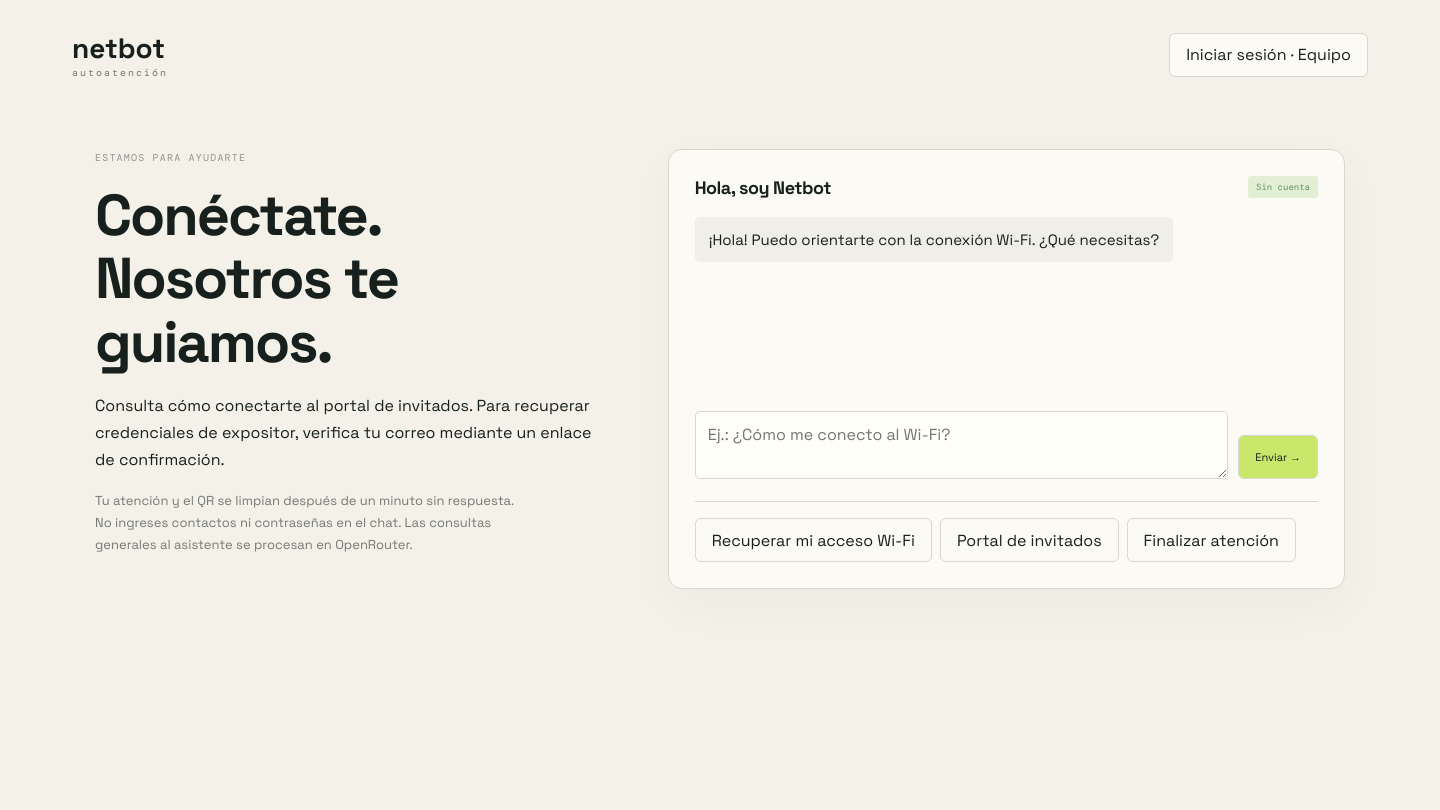
Test case: rejects duplicate SDK callbacks and keeps local password login available after failure
Click the button "Iniciar sesión · Equipo". click: (1269, 54)
box: [1169, 32, 1368, 76]
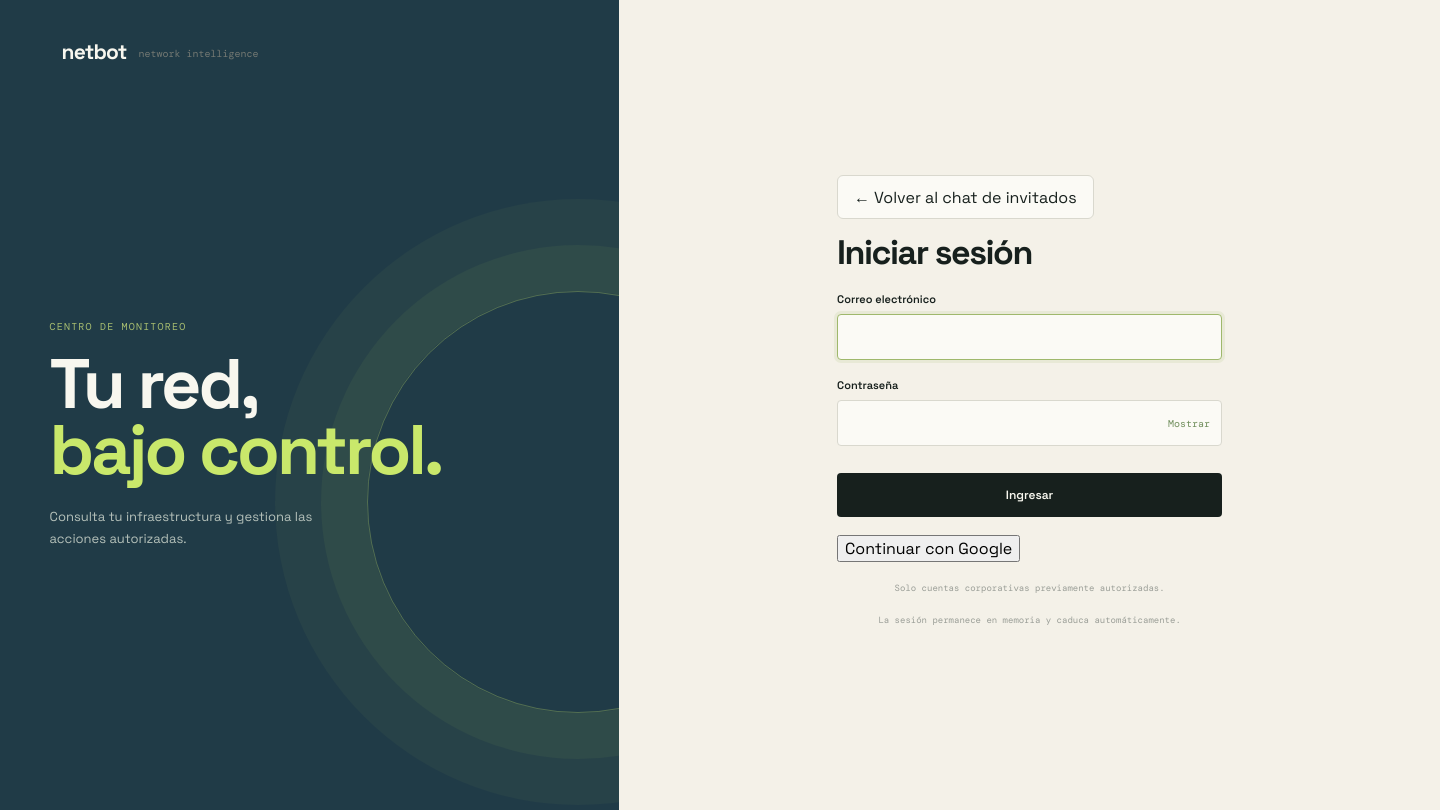
Result: the button "Continuar con Google" is shown at [837, 535, 1020, 562]
Type "never-send-local-password" into the password field labelled "Contraseña". click: (1030, 423)
box: [837, 400, 1222, 446]
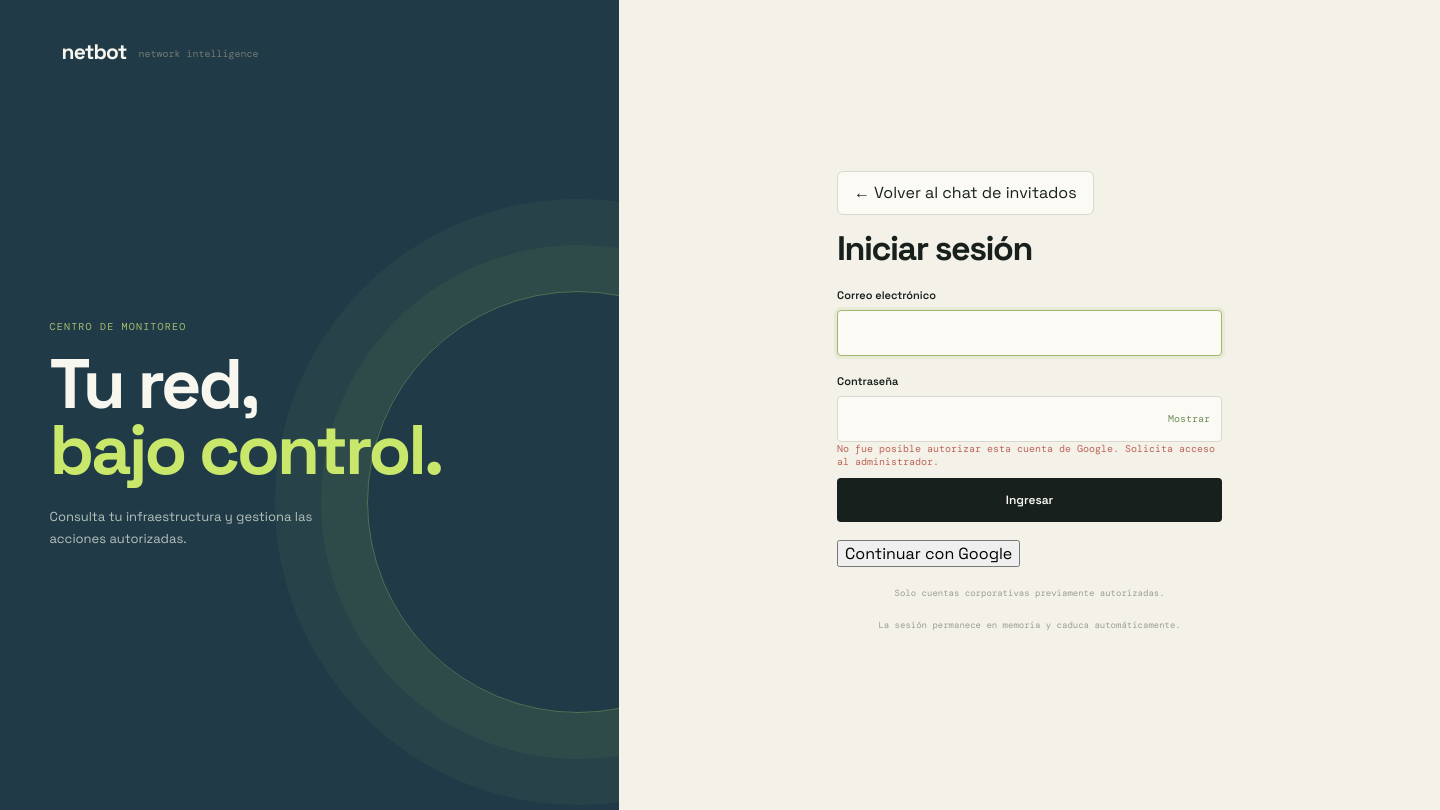
Result: the button "Ingresar" is enabled at [837, 478, 1222, 522]
Result: the password field labelled "Contraseña" is empty at [837, 396, 1222, 442]
Result: the text "No fue posible autorizar" is shown at [837, 442, 1215, 468]
